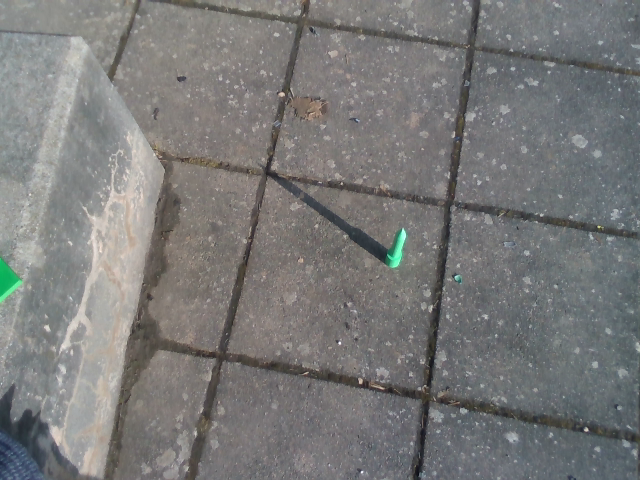Probe: (379, 222, 410, 272)
